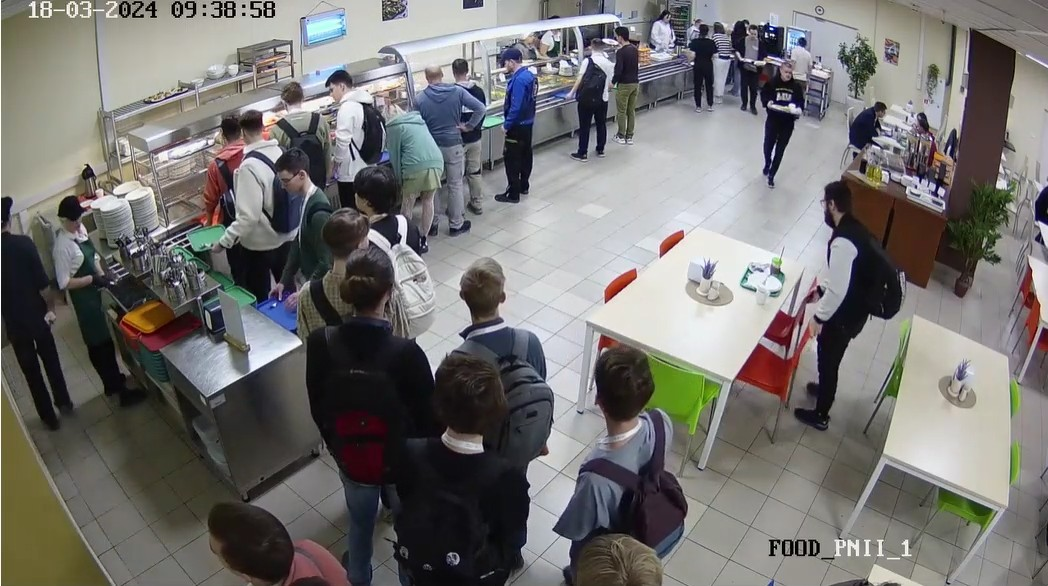Na_Kasse: (740, 24, 763, 116), (711, 20, 733, 103), (695, 21, 711, 111), (790, 35, 814, 69)
Ne_v_Ocheredi: (312, 248, 401, 576), (395, 369, 518, 586), (795, 182, 886, 422), (576, 348, 685, 527), (453, 266, 549, 444), (184, 490, 341, 586), (361, 171, 437, 322), (303, 206, 375, 328), (571, 533, 690, 586), (761, 70, 803, 186)
Personal: (37, 192, 189, 411), (0, 185, 63, 426), (647, 9, 676, 50), (540, 17, 570, 55), (504, 22, 538, 53)
Vybiraet: (216, 111, 283, 289), (412, 69, 474, 233), (382, 103, 444, 255), (268, 150, 313, 322), (325, 66, 376, 201), (502, 51, 543, 203), (193, 107, 240, 226), (453, 58, 489, 211), (275, 78, 326, 172), (573, 33, 609, 162), (612, 26, 642, 144)
Za_Stolom: (835, 102, 888, 166), (1027, 177, 1048, 249), (913, 111, 939, 148)
